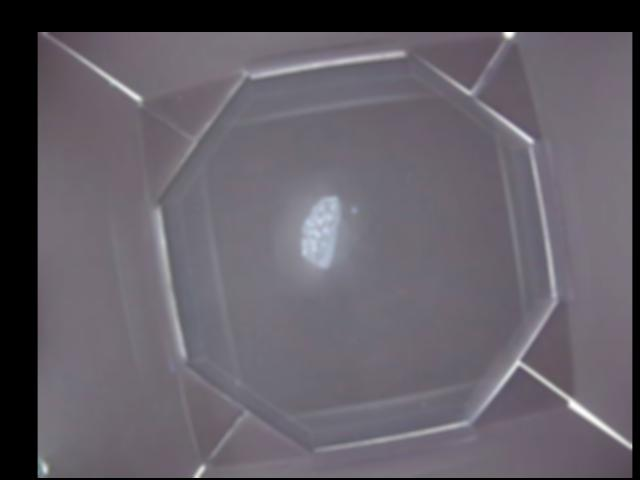China: (301, 194, 339, 265)
